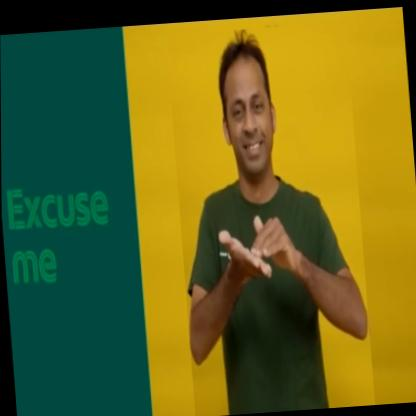ExcuseMe: (165, 22, 374, 416)
